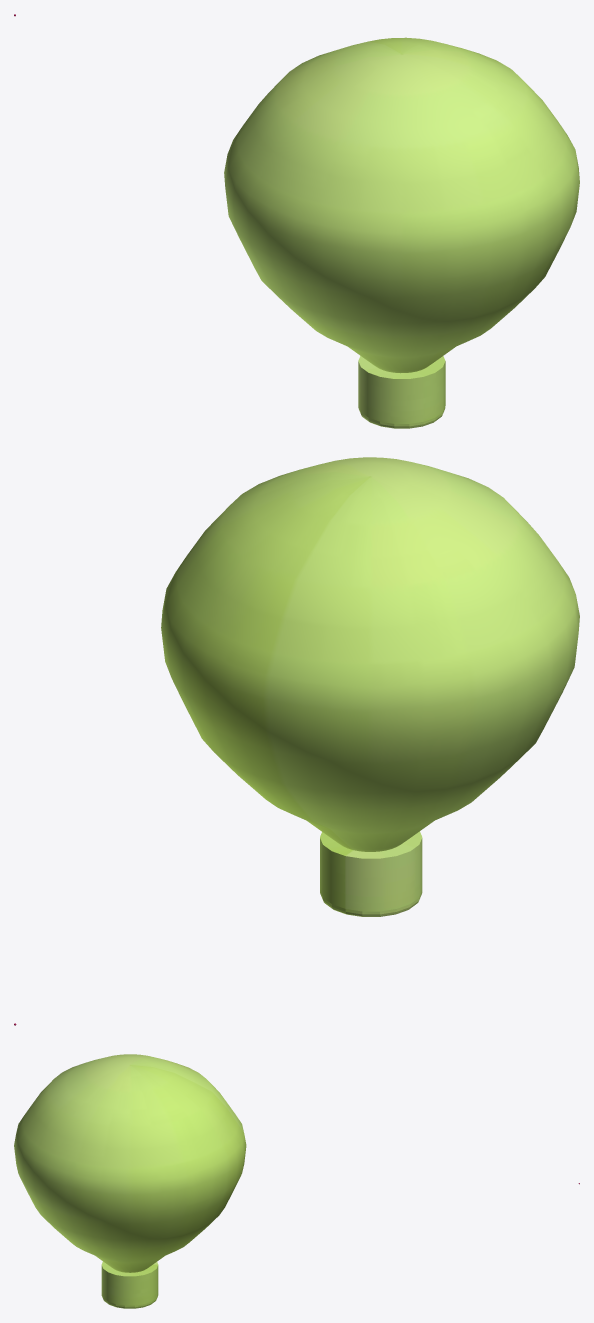
The model's file is HeliumObject.DAE.
3 renders of one model, top to bottom at view 1: azimuth 30°, elevation 25°; view 2: azimuth 150°, elevation 25°; view 3: azimuth 270°, elevation 25°, orthographic. The views are drawn at different scales.
Visible parts, largest first — view 1: Sphere001; view 2: Sphere001; view 3: Sphere001.
Part boxes in pixels (box(x1,y1,x2,y2)): Sphere001: box(224, 37, 579, 428); Sphere001: box(161, 457, 579, 916); Sphere001: box(14, 1054, 246, 1308).
Bounding box in the file's own units: 7.09 × 17.25 × 7.83.
2 materials, 1 textured.
